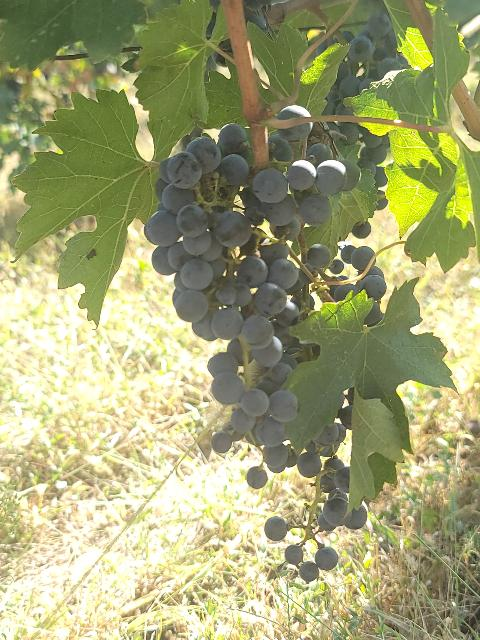grapes: (145, 124, 359, 448)
